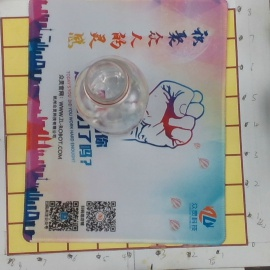bottle: (75, 56, 147, 134)
